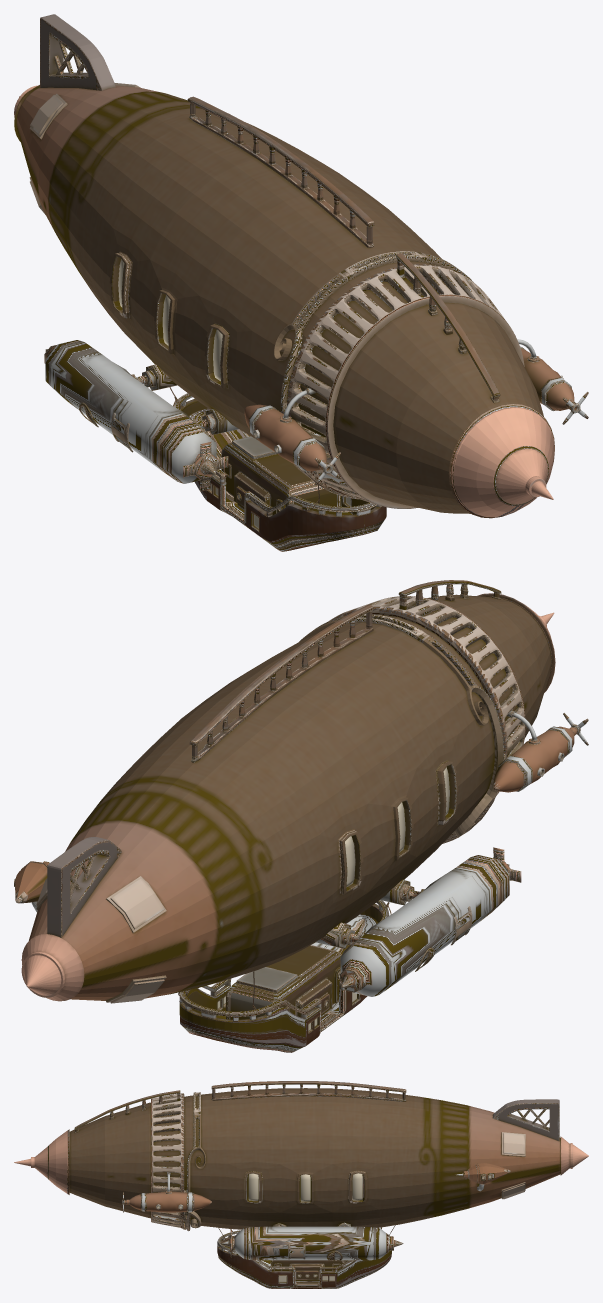
Rendered from AirshipOptimised-v2.glb.
The picture shows the model from 3 angles, top to bottom: view 1: azimuth 30°, elevation 25°; view 2: azimuth 150°, elevation 25°; view 3: azimuth 270°, elevation 25°; orthographic projection. The views are drawn at different scales.
Parts seen in each view (by area): view 1: Cube, Cylinder.004; view 2: Cube, Cylinder.004; view 3: Cube, Cylinder.004.
Boxes of the visible parts, x1,y1,x2,y2 form: Cube: (14,14,588,551); Cylinder.004: (118,259,350,528); Cube: (14,580,588,1052); Cylinder.004: (217,767,541,1031); Cube: (14,1081,588,1288); Cylinder.004: (157,1173,491,1282).
Size of the model in its own units: 1.77 by 1.82 by 4.77.
2 materials, 1 textured.
